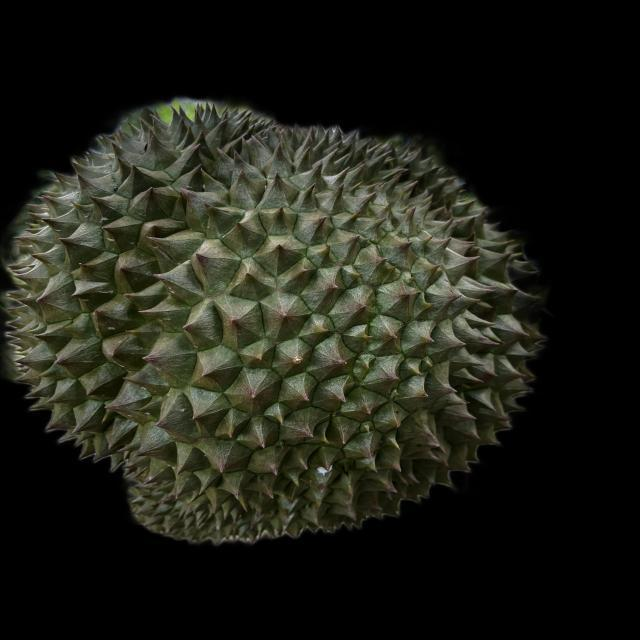immature: (19, 104, 550, 539)
